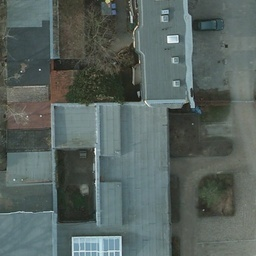car: (193, 18, 222, 31)
